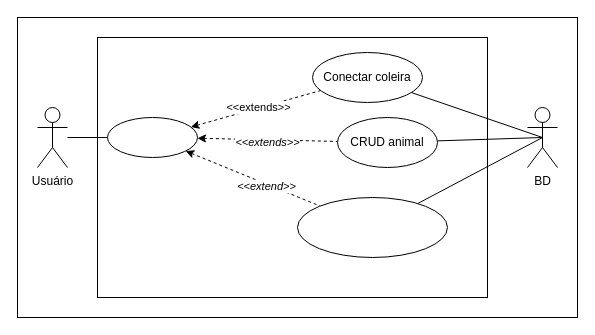
Image size: 595x335. Some labels were removed from this diagram. Each missing label, with the box of its shape:
Acessar o sistema: (106, 116, 198, 158)
Visualizar dados do animal: (296, 196, 448, 258)
